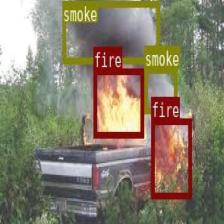fire: (93, 68, 144, 137), (151, 118, 191, 198)
smoke: (62, 0, 158, 63), (144, 66, 176, 113)
